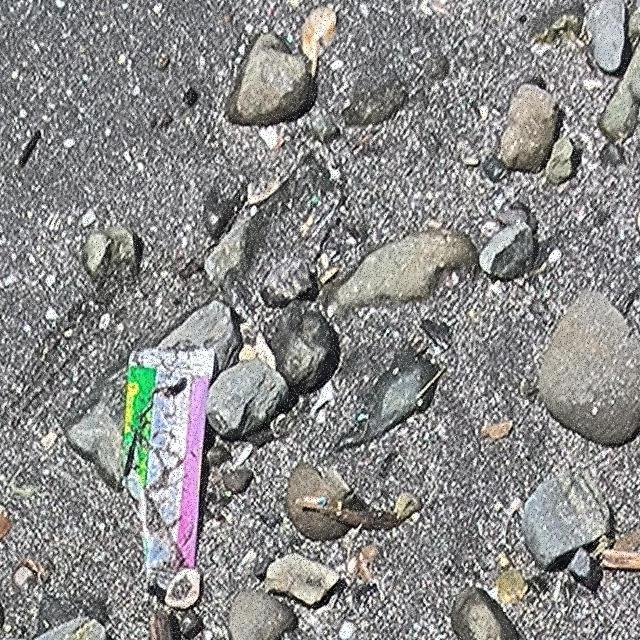plastic_waste: (123, 347, 218, 593)
